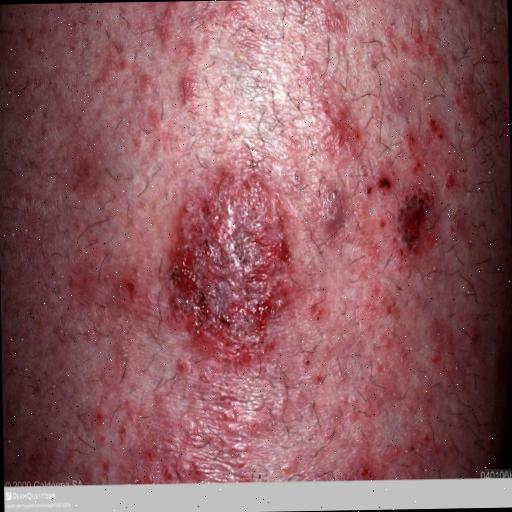Skin_Lesion: (169, 171, 300, 367), (392, 167, 442, 262), (366, 164, 394, 204)
